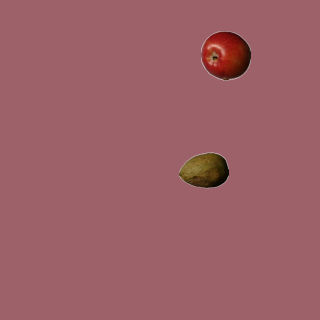Apple Braeburn: (200, 30, 250, 80)
Papaya: (178, 145, 228, 195)
